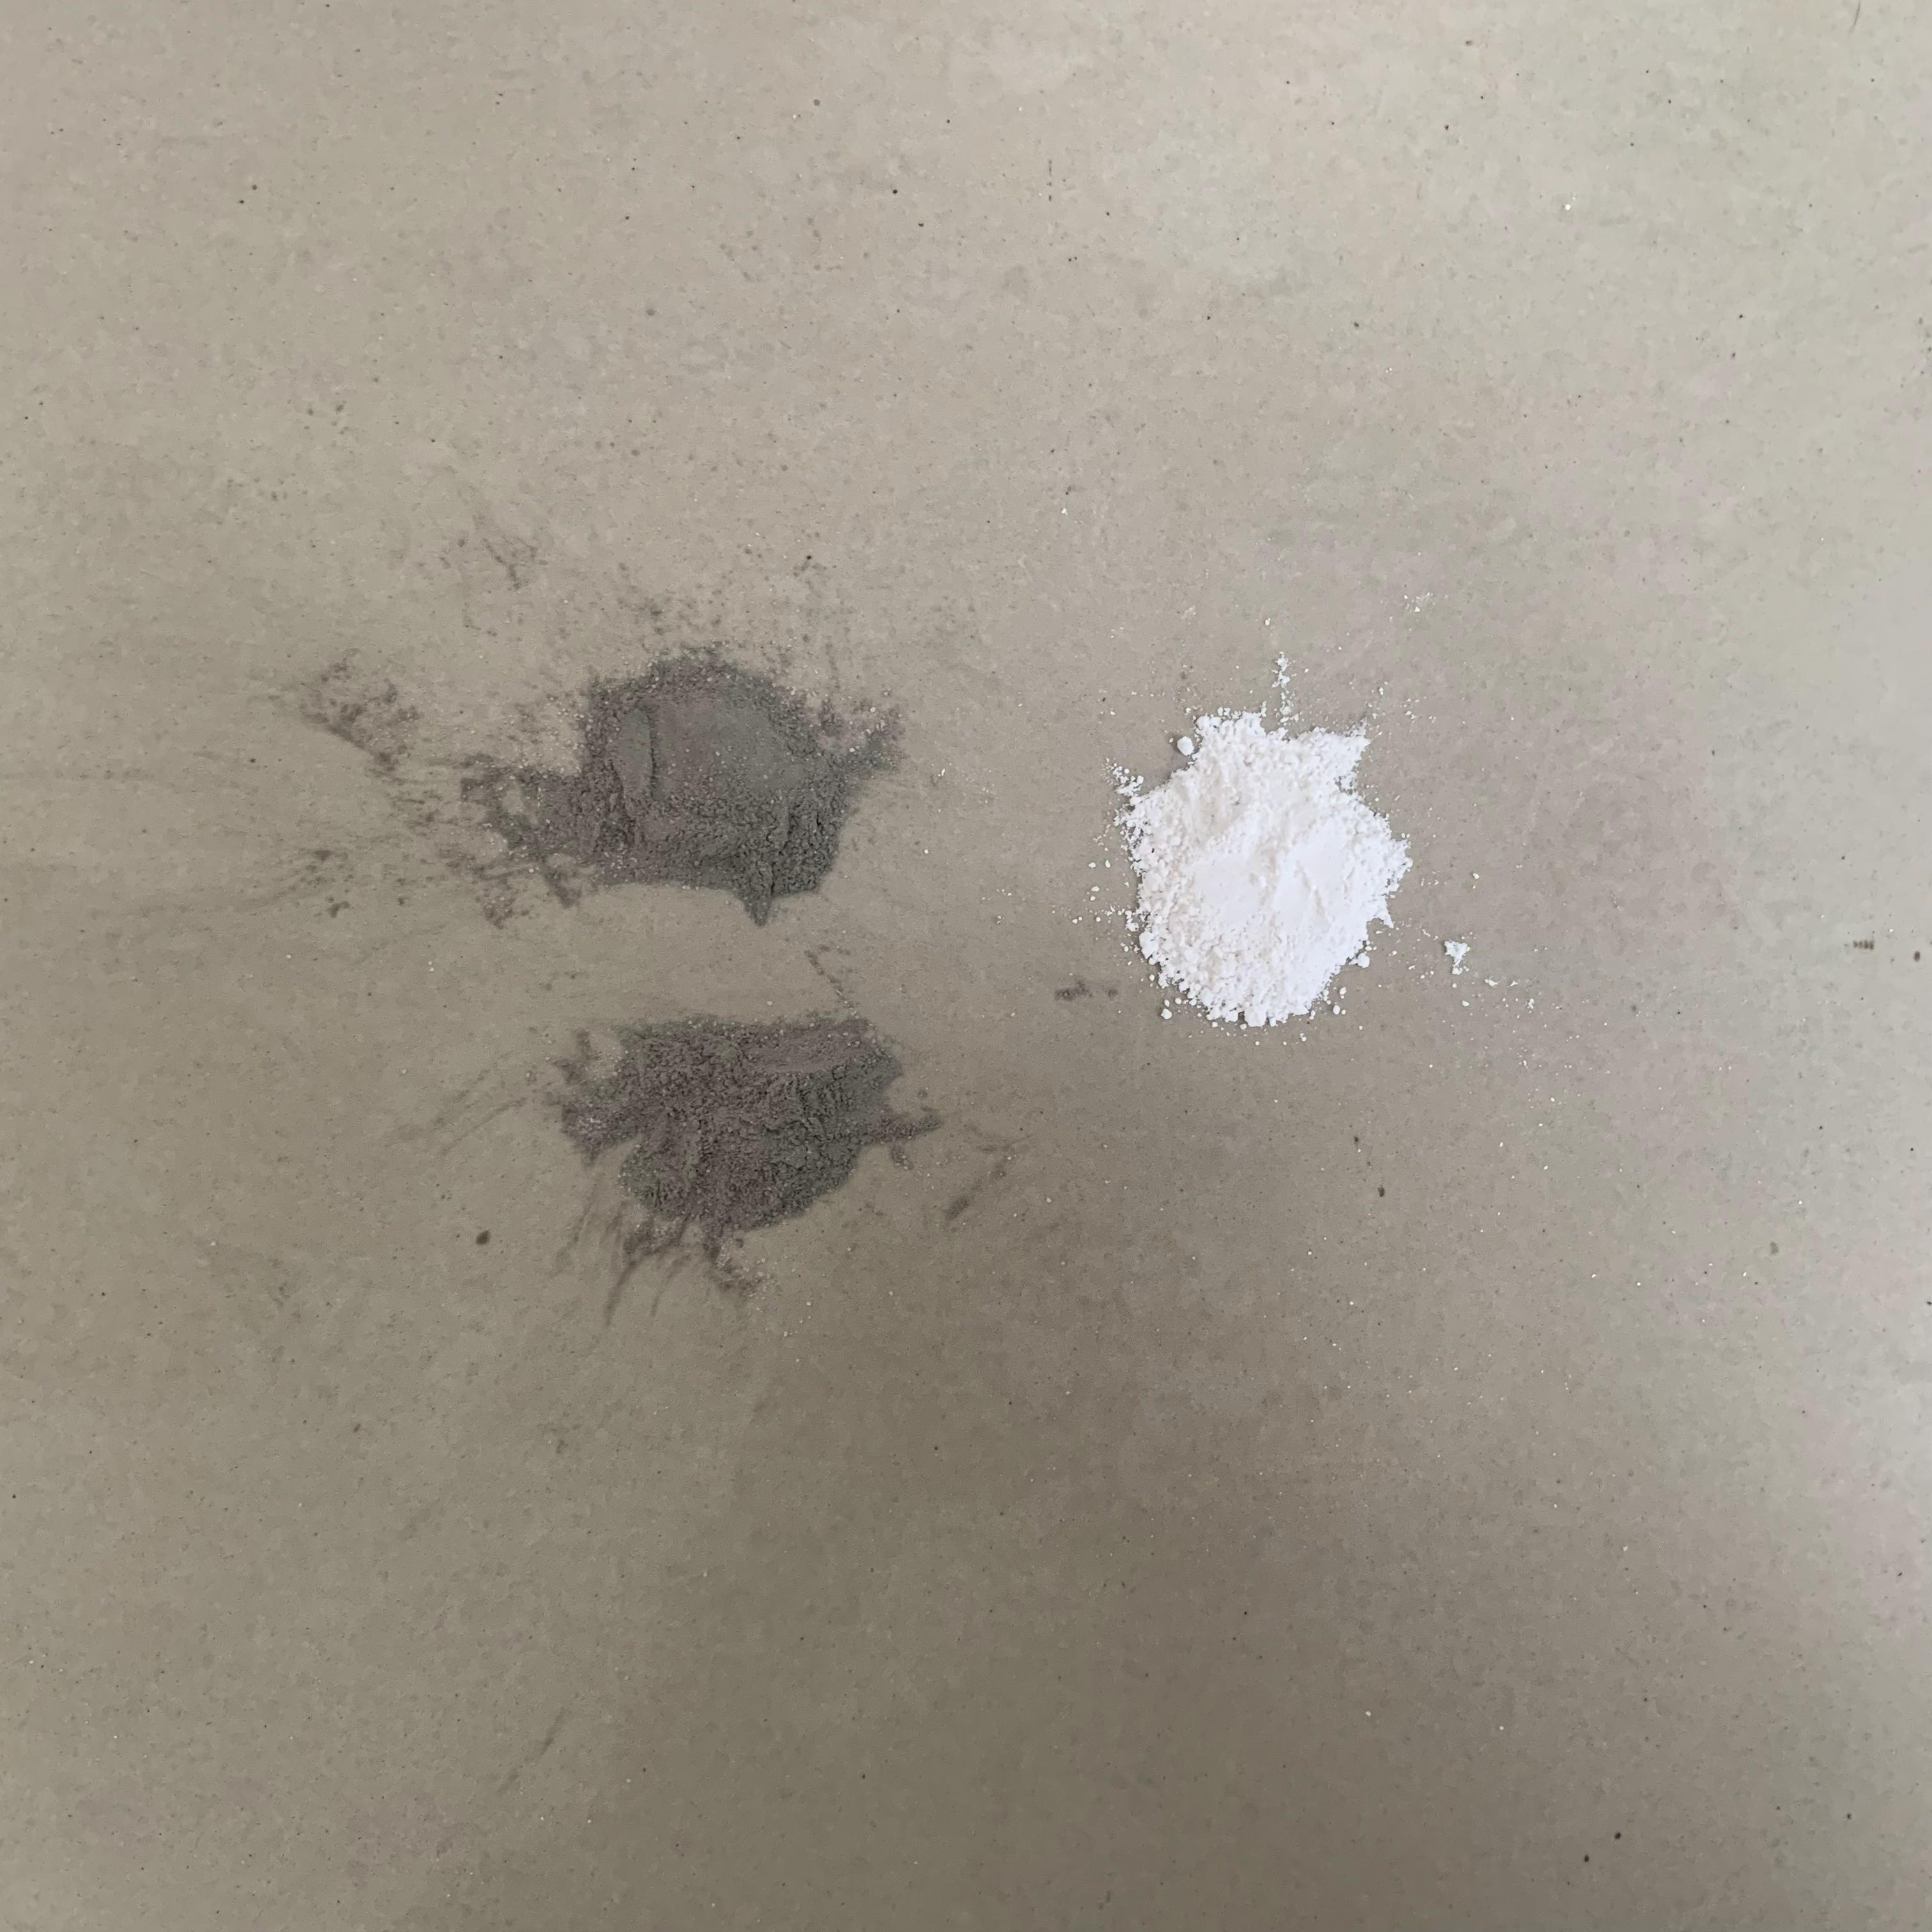ash pile: (276, 639, 913, 936), (541, 1016, 939, 1329), (1109, 708, 1415, 1030)
